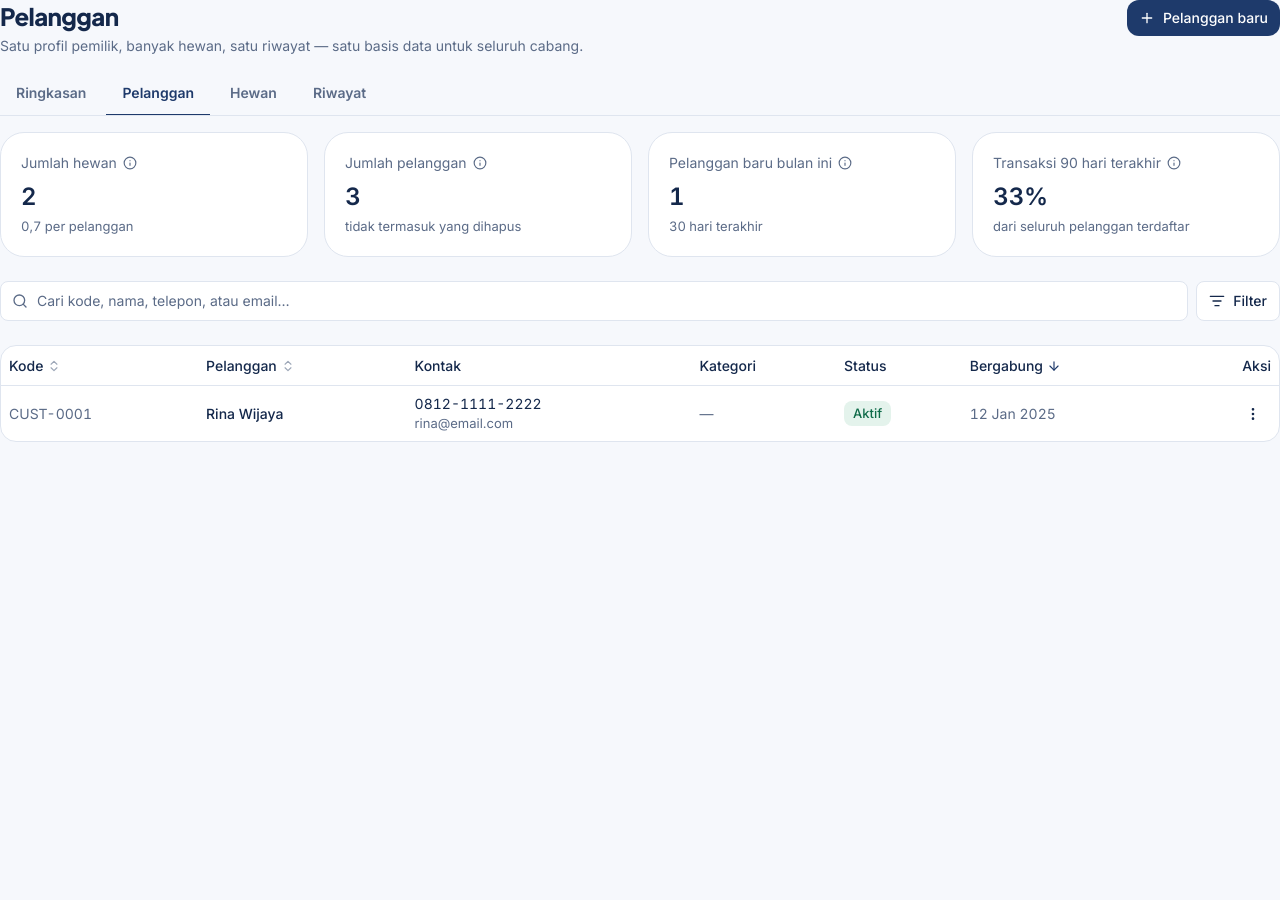
header sorting › offers no Urutkan in the filter panel
The width and height of the screenshot is (1280, 900).
Expected: the link "Rina Wijaya" is shown, x1=206 y1=404 x2=284 y2=424
What coordinates should you click on to do the following:
click the button "Filter"
I would click on:
 (1238, 301)
Its box is x1=1196 y1=281 x2=1279 y2=321.
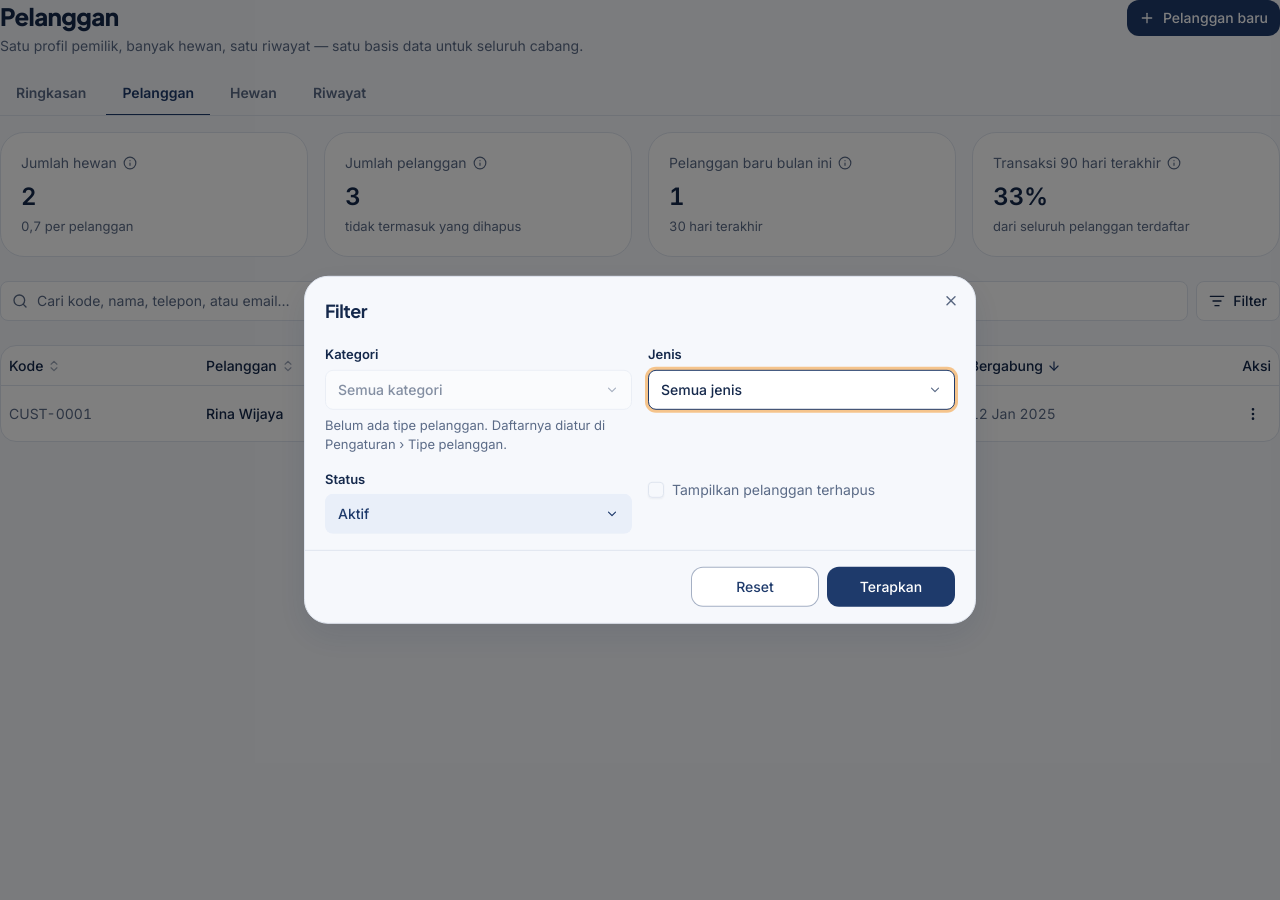
Result: the button with aria-label "Filter jenis pelanggan" is shown at x1=648 y1=370 x2=955 y2=410
